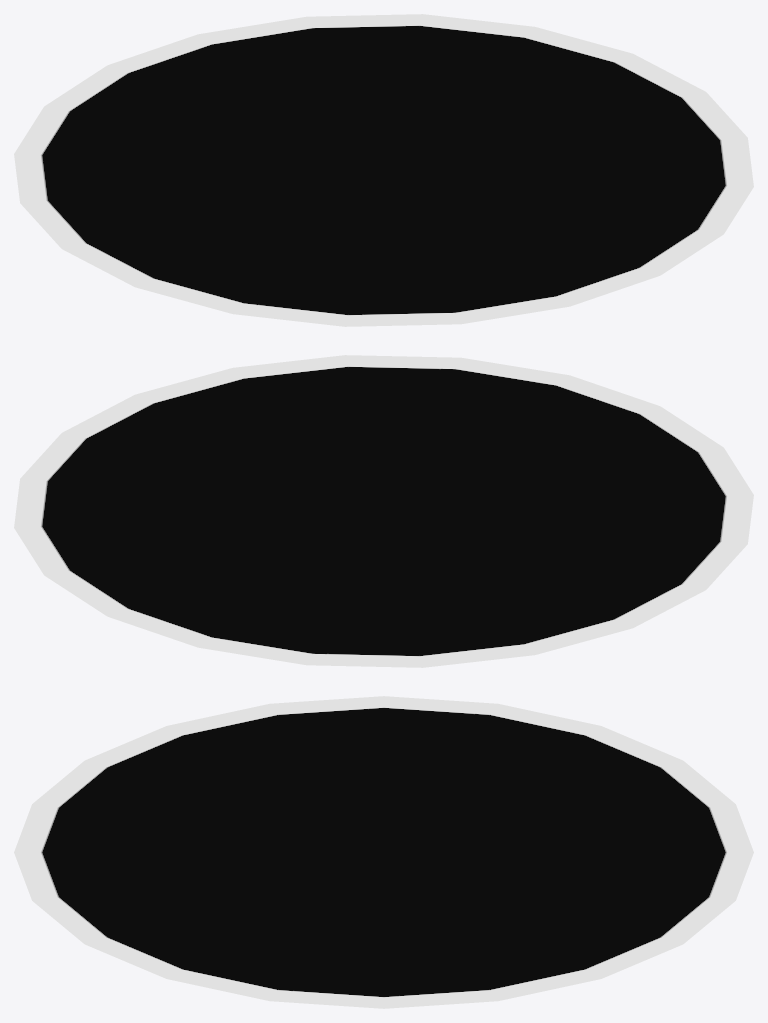
The model's file is fbx_Shadows.fbx.
3 views of the same model, one above another, from view 1: azimuth 30°, elevation 25°; view 2: azimuth 150°, elevation 25°; view 3: azimuth 270°, elevation 25° (orthographic).
Visible parts, largest first — view 1: geo_ShadowRound; view 2: geo_ShadowRound; view 3: geo_ShadowRound.
Part boxes in pixels (box(x1,y1,x2,y2)): geo_ShadowRound: box(14, 14, 753, 326); geo_ShadowRound: box(14, 355, 753, 667); geo_ShadowRound: box(14, 696, 753, 1008).
Size of what is drawn, in the model's own units: 4.15 by 0 by 4.15.
